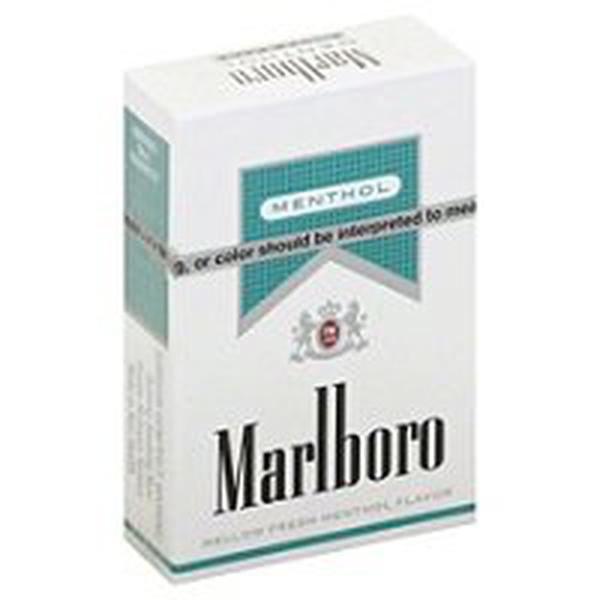marlboro_mentol: (180, 104, 473, 522)
